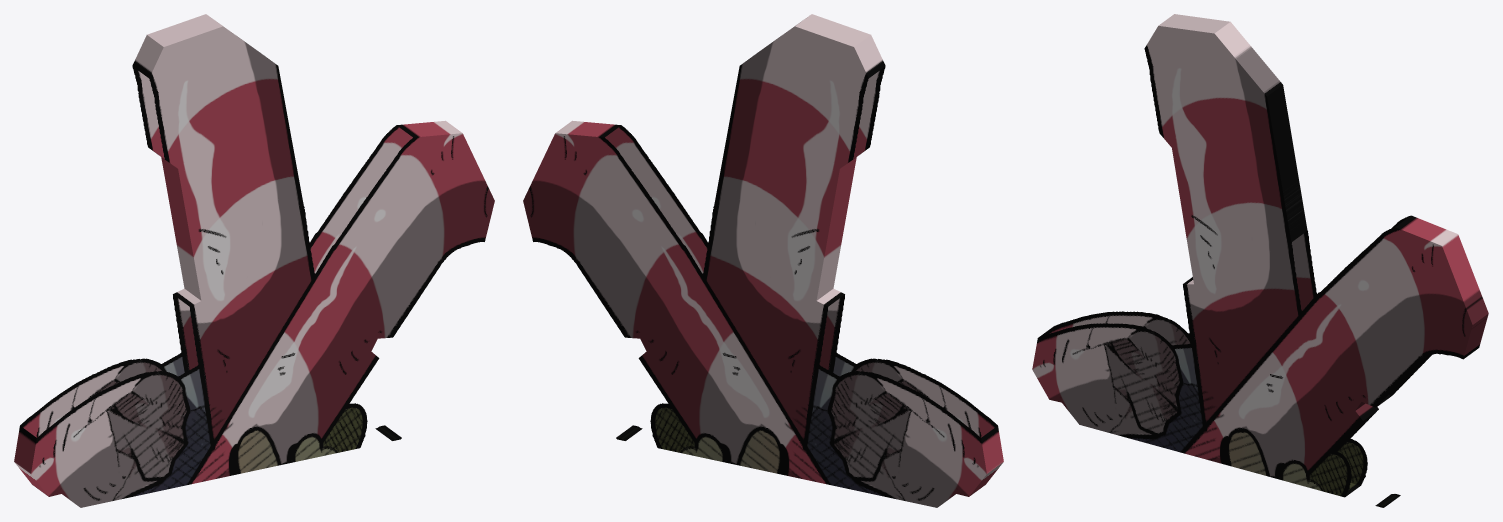
File: Cane_1.fbx
The picture shows the model from 3 angles, left to right: view 1: azimuth 30°, elevation 25°; view 2: azimuth 150°, elevation 25°; view 3: azimuth 330°, elevation 25°; orthographic projection. The views are drawn at different scales.
Parts seen in each view (by area): view 1: Cane_1; view 2: Cane_1; view 3: Cane_1.
Boxes of the visible parts, x1,y1,x2,y2 form: Cane_1: (14, 14, 494, 507); Cane_1: (523, 14, 1003, 507); Cane_1: (1032, 14, 1488, 507).
Size of the model in its own units: 189 by 178 by 12.
